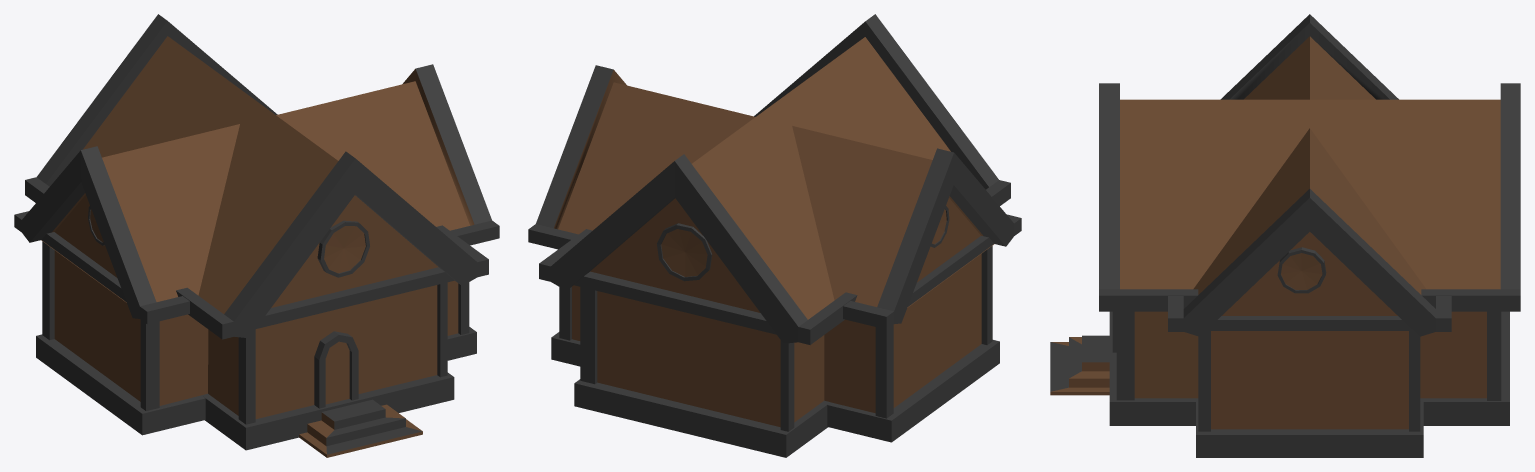
File: house 2.fbx
3 views of the same model, side by side, from view 1: azimuth 30°, elevation 25°; view 2: azimuth 150°, elevation 25°; view 3: azimuth 270°, elevation 25° (orthographic). The views are drawn at different scales.
Visible parts, largest first — view 1: house 1; view 2: house 1; view 3: house 1.
Part boxes in pixels (<box>): house 1: <box>14,14,499,457</box>; house 1: <box>528,14,1021,457</box>; house 1: <box>1050,14,1520,457</box>.
Bounding box in the file's own units: 163 × 119 × 176.
